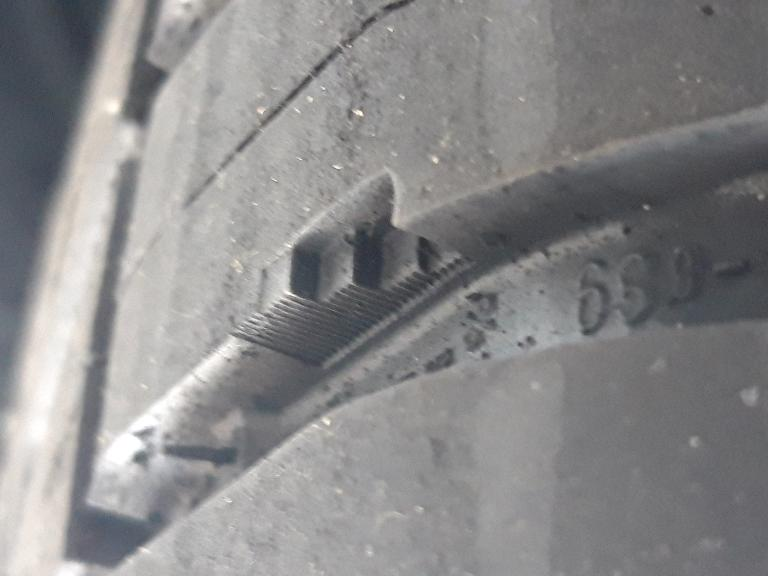temoin:75: (250, 160, 481, 355)
